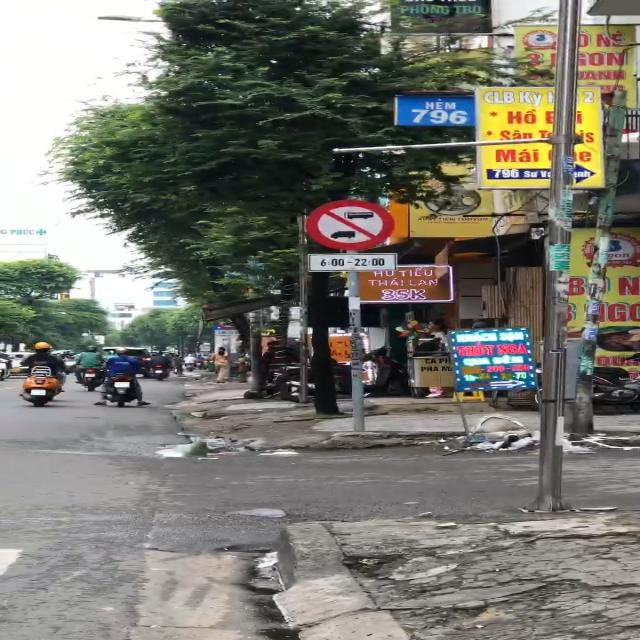Bien bao cam xe oto khach va xe oto tai: (303, 194, 400, 252)
